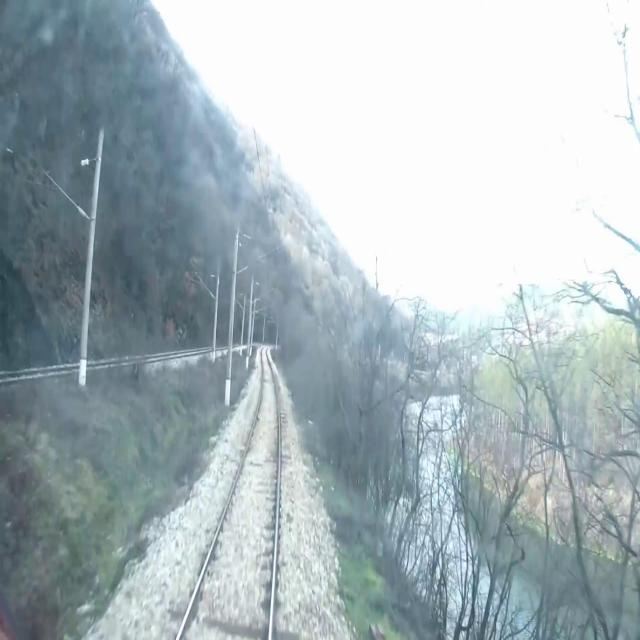rail-track: (181, 350, 277, 639)
